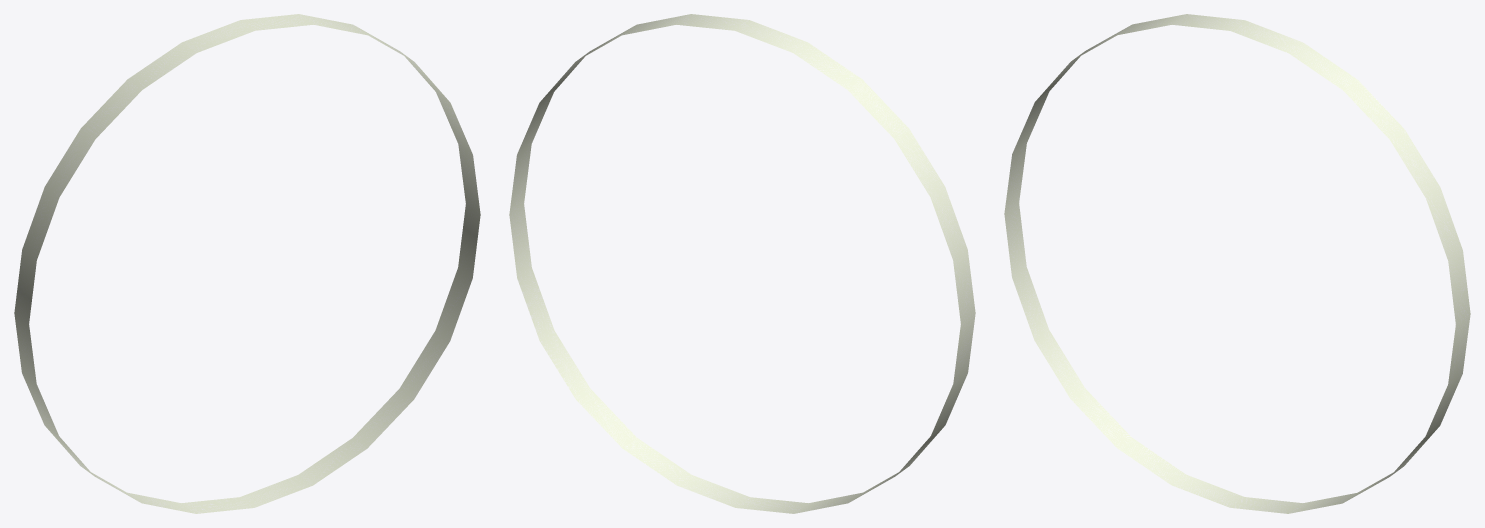
File: original-13.obj
3 renders of one model, left to right at view 1: azimuth 30°, elevation 25°; view 2: azimuth 150°, elevation 25°; view 3: azimuth 330°, elevation 25°, orthographic.
Parts seen in each view (by area): view 1: #ID70; view 2: #ID70; view 3: #ID70.
Part boxes in pixels (x1,y1,x2,y2): #ID70: (14, 14, 480, 513); #ID70: (509, 14, 975, 513); #ID70: (1004, 14, 1470, 513).
Size of the model in its own units: 0.5892 by 0.5947 by 0.0333.
